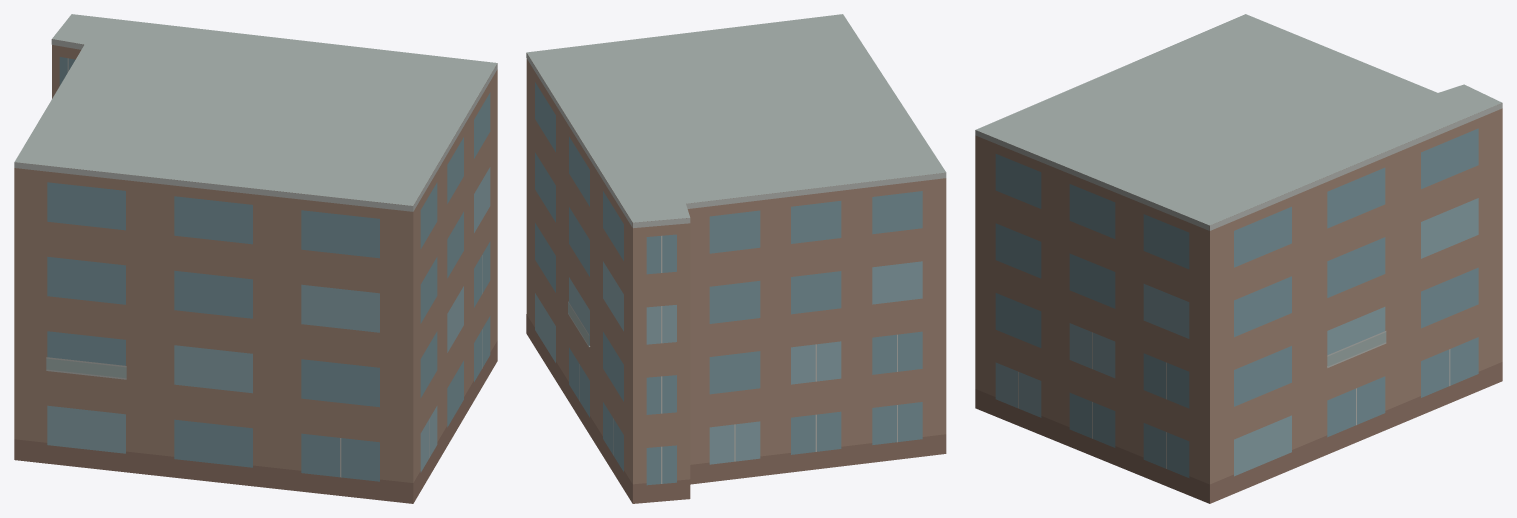
File: survey-upis-32879324.glb
3 renders of one model, left to right at view 1: azimuth 30°, elevation 25°; view 2: azimuth 150°, elevation 25°; view 3: azimuth 270°, elevation 25°, orthographic. The views are drawn at different scales.
Visible parts, largest first — view 1: survey-upis-32879324.tmp; view 2: survey-upis-32879324.tmp; view 3: survey-upis-32879324.tmp.
Part boxes in pixels (x1,y1,x2,y2): survey-upis-32879324.tmp: [14, 14, 497, 503]; survey-upis-32879324.tmp: [526, 14, 946, 503]; survey-upis-32879324.tmp: [975, 14, 1502, 503].
Size of the model in its own units: 20.22 by 12.4 by 21.3.
